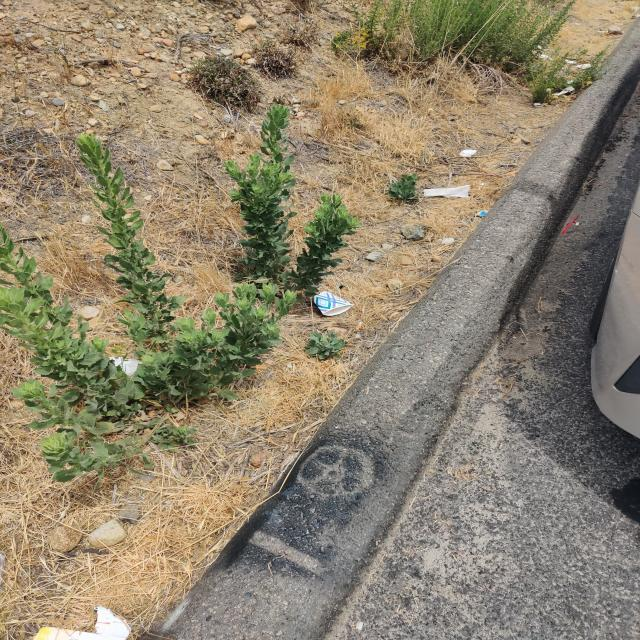litter: (38, 604, 126, 640), (316, 290, 349, 316), (423, 186, 467, 199)
